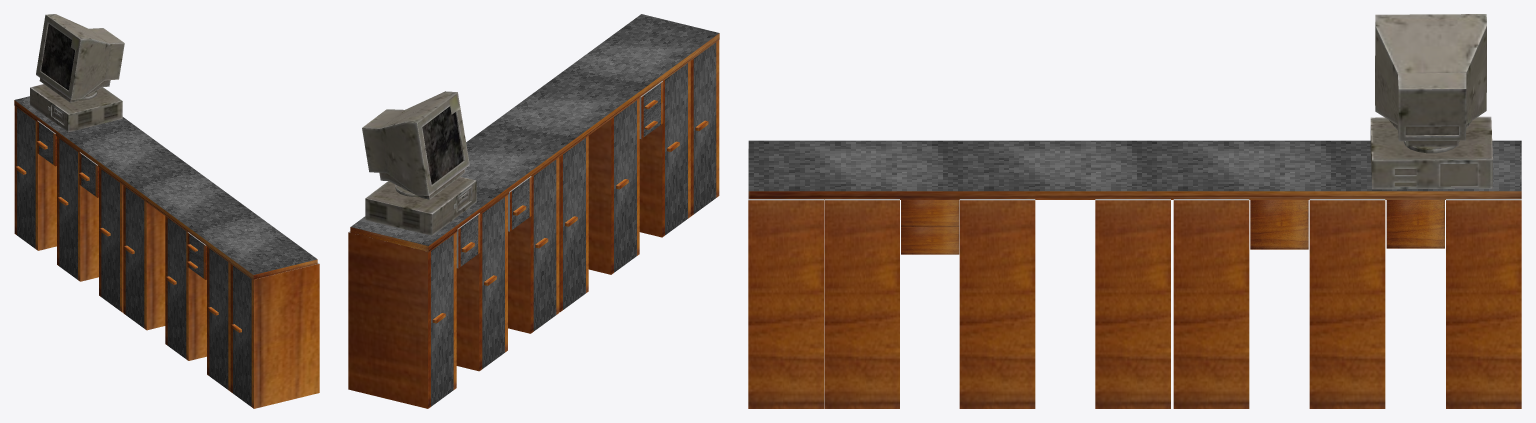
The model's file is cputable.glb.
3 views of the same model, side by side, from view 1: azimuth 30°, elevation 25°; view 2: azimuth 150°, elevation 25°; view 3: azimuth 270°, elevation 25° (orthographic). The views are drawn at different scales.
Visible parts, largest first — view 1: Box001, Box012, PC, Box007, Box002, Box004, Box009, Box006, Box011, Box005, Box003, Box010 (+1 smaller); view 2: Box001, Box002, PC, Box009, Box006, Box004, Box011, Box012, Box007, Box003, Box005, Box010 (+1 smaller); view 3: Box001, PC, Box004, Box006, Box009, Box012, Box002, Box007, Box011, Box005, Box003, Box013 (+1 smaller).
Boxes of the visible parts, <box> form: Box001: <box>14,96,317,280</box>; Box012: <box>230,263,319,408</box>; PC: <box>30,14,124,132</box>; Box007: <box>123,185,165,330</box>; Box002: <box>14,106,56,250</box>; Box004: <box>57,137,98,281</box>; Box009: <box>165,216,206,360</box>; Box006: <box>99,167,123,312</box>; Box011: <box>207,246,230,391</box>; Box005: <box>79,152,98,197</box>; Box003: <box>36,120,56,166</box>; Box010: <box>187,232,206,262</box>; Box001: <box>350,14,719,252</box>; Box002: <box>348,231,456,408</box>; PC: <box>362,91,476,235</box>; Box009: <box>588,98,639,274</box>; Box006: <box>508,157,559,333</box>; Box004: <box>456,195,507,371</box>; Box011: <box>639,61,690,237</box>; Box012: <box>690,40,719,216</box>; Box007: <box>559,136,588,311</box>; Box003: <box>456,213,480,268</box>; Box005: <box>508,176,531,231</box>; Box010: <box>639,81,663,118</box>; Box001: <box>748,140,1521,199</box>; PC: <box>1370,14,1492,189</box>; Box004: <box>1309,199,1385,408</box>; Box006: <box>1173,199,1249,408</box>; Box009: <box>959,199,1035,408</box>; Box012: <box>748,149,823,408</box>; Box002: <box>1446,199,1521,408</box>; Box007: <box>1095,199,1170,408</box>; Box011: <box>824,199,899,408</box>; Box005: <box>1250,200,1308,249</box>; Box003: <box>1386,200,1444,248</box>; Box013: <box>901,226,959,254</box>.
Size of the model in its own units: 0.5743 by 1.59 by 3.11.
Materials: 8 (3 with a texture image).
